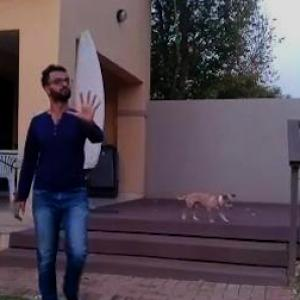follow_hand: (68, 86, 107, 127)
